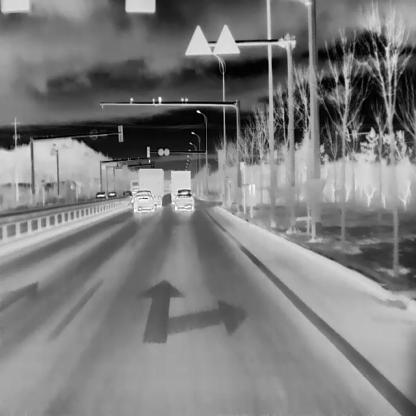car: (139, 169, 161, 207), (170, 170, 190, 203), (133, 190, 154, 212), (174, 189, 194, 211), (131, 178, 139, 203), (95, 191, 108, 199), (122, 190, 133, 197), (107, 191, 117, 197)
light: (144, 144, 152, 160)
sign: (163, 146, 172, 158), (157, 148, 164, 156)
